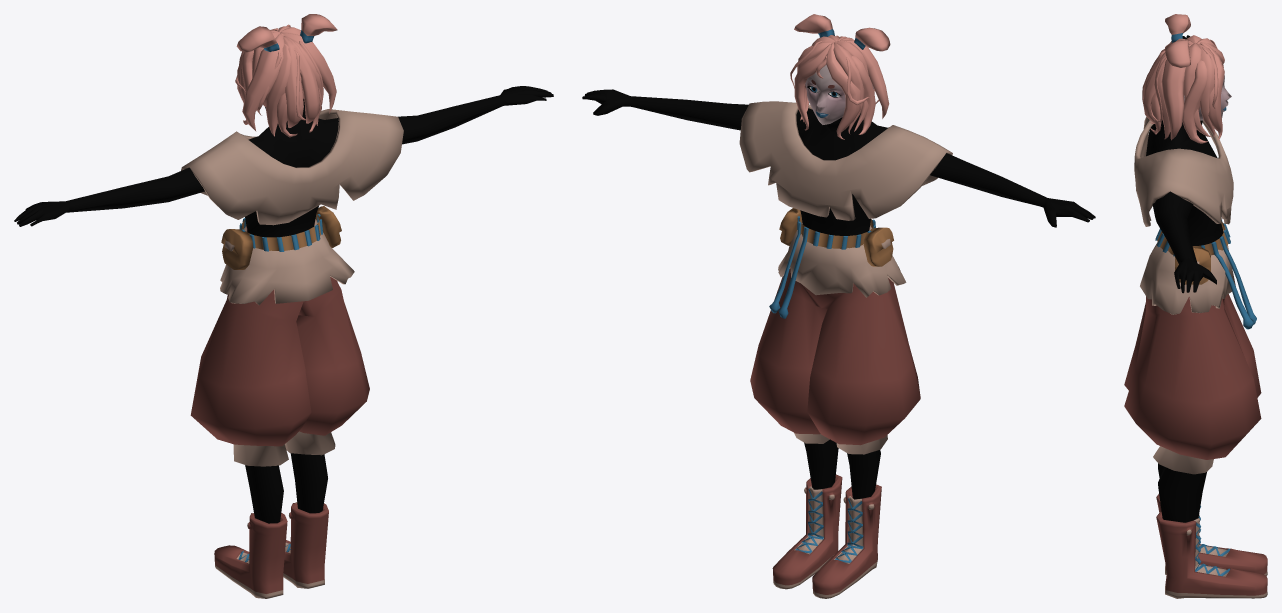
The model's file is mainchara_sub_smooth_notrigged_6.fbx.
3 renders of one model, left to right at view 1: azimuth 30°, elevation 25°; view 2: azimuth 150°, elevation 25°; view 3: azimuth 270°, elevation 25°, orthographic. The views are drawn at different scales.
Visible parts, largest first — view 1: femBase.005, femBase, Plane.007, femBase.003, BézierCurve.001, femBase.006, Cube.002, Cube.001, Cylinder.001, BézierCurve.002; view 2: femBase.005, femBase, Plane.007, femBase.003, BézierCurve.001, femBase.006, Cylinder.001, Cube.002, Cube.001, femBase.007; view 3: femBase.005, femBase, femBase.003, Plane.007, BézierCurve.001, femBase.006, Cylinder.001, Cube.001, BézierCurve.002, femBase.007, Cube.002.
Part boxes in pixels (x1,y1,x2,y2): femBase.005: (190,220,369,466); femBase: (14,86,553,523); Plane.007: (181,109,403,225); femBase.003: (214,502,328,598); BézierCurve.001: (237,26,336,137); femBase.006: (220,219,354,305); Cube.002: (221,206,341,269); Cube.001: (236,14,337,52); Cylinder.001: (239,214,322,251); BézierCurve.002: (235,24,323,120); femBase.005: (750,268,920,454); femBase: (582,64,1095,499); Plane.007: (739,101,952,220); femBase.003: (772,474,881,598); BézierCurve.001: (794,35,889,139); femBase.006: (778,222,906,297); Cylinder.001: (769,215,875,318); Cube.002: (779,208,893,266); Cube.001: (794,14,890,51); femBase.007: (795,488,863,562); femBase.005: (1124,294,1261,474); femBase: (1146,35,1231,522); femBase.003: (1156,494,1267,598); Plane.007: (1134,116,1233,226); BézierCurve.001: (1143,35,1224,143); femBase.006: (1140,230,1235,314); Cylinder.001: (1155,220,1256,329); Cube.001: (1165,14,1190,67); BézierCurve.002: (1142,39,1223,122); femBase.007: (1195,506,1230,576); Cube.002: (1175,247,1210,284).
Bounding box in the file's own units: 147 × 149 × 34.92.
